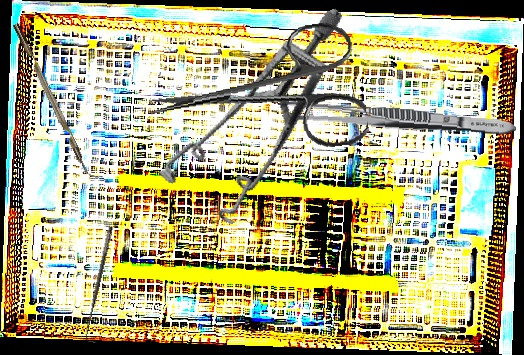Chopper: (12, 19, 101, 184)
Dressing Forceps: (281, 99, 518, 139)
Hook Surgical: (81, 225, 122, 344)
Iris Scissors: (141, 18, 371, 172)
Speculum: (125, 7, 396, 242)
